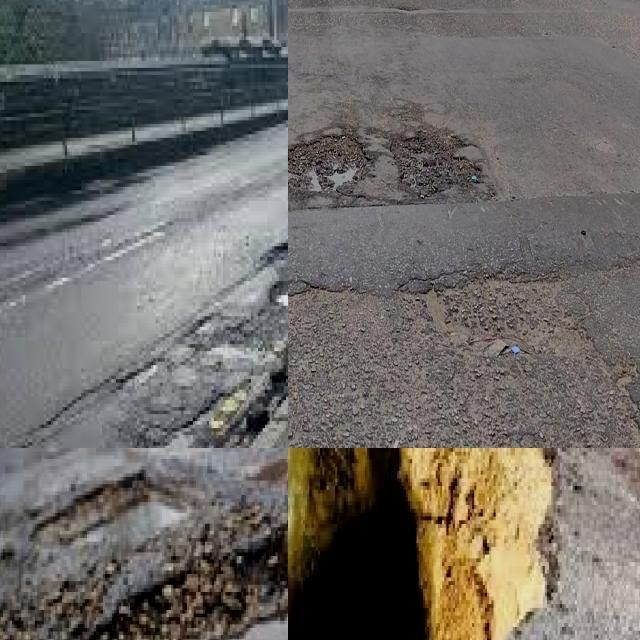Pothole: (288, 448, 559, 640), (98, 531, 288, 640), (390, 121, 483, 199), (288, 132, 370, 194)
